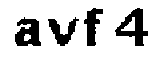4: (116, 7, 152, 50)
a: (12, 15, 45, 50)
f: (79, 9, 109, 48)
v: (47, 17, 79, 49)
